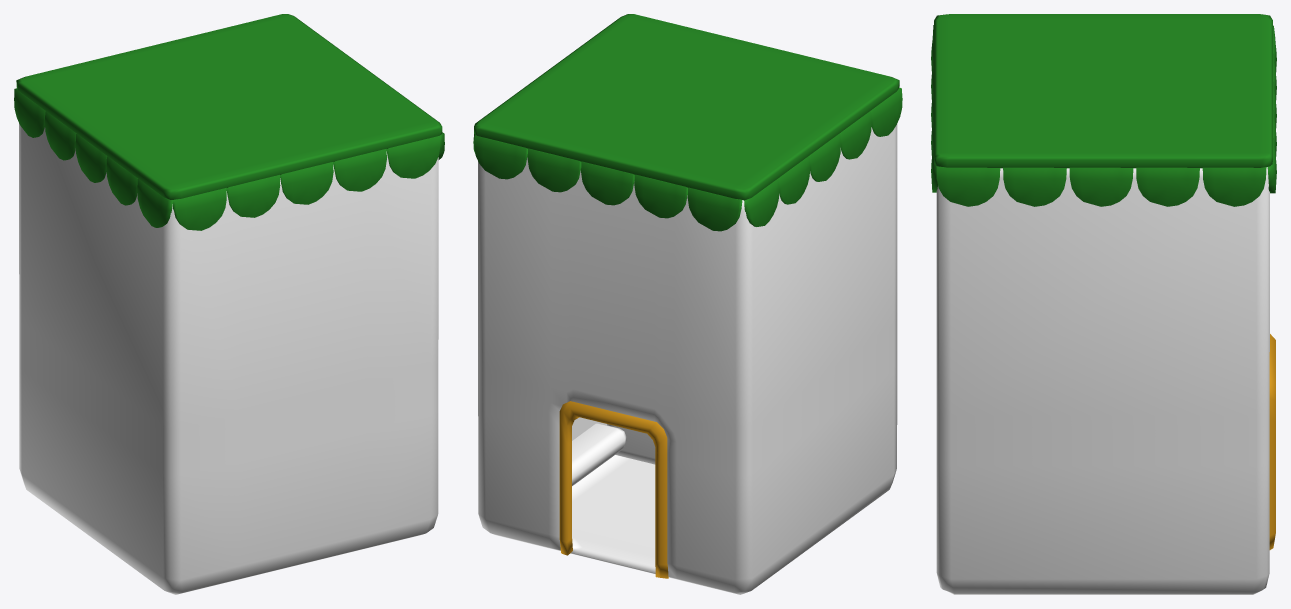
File: HouseTallCombined.fbx
3 renders of one model, left to right at view 1: azimuth 30°, elevation 25°; view 2: azimuth 150°, elevation 25°; view 3: azimuth 270°, elevation 25°, orthographic. The views are drawn at different scales.
Visible parts, largest first — view 1: HouseTall7; view 2: HouseTall7; view 3: HouseTall7.
Part boxes in pixels (box(x1,y1,x2,y2)): HouseTall7: box(14, 14, 444, 594); HouseTall7: box(473, 14, 902, 594); HouseTall7: box(931, 14, 1276, 594).
Size of what is drawn, in the model's own units: 2.2 by 3.1 by 2.18.
1 material, 1 textured.
